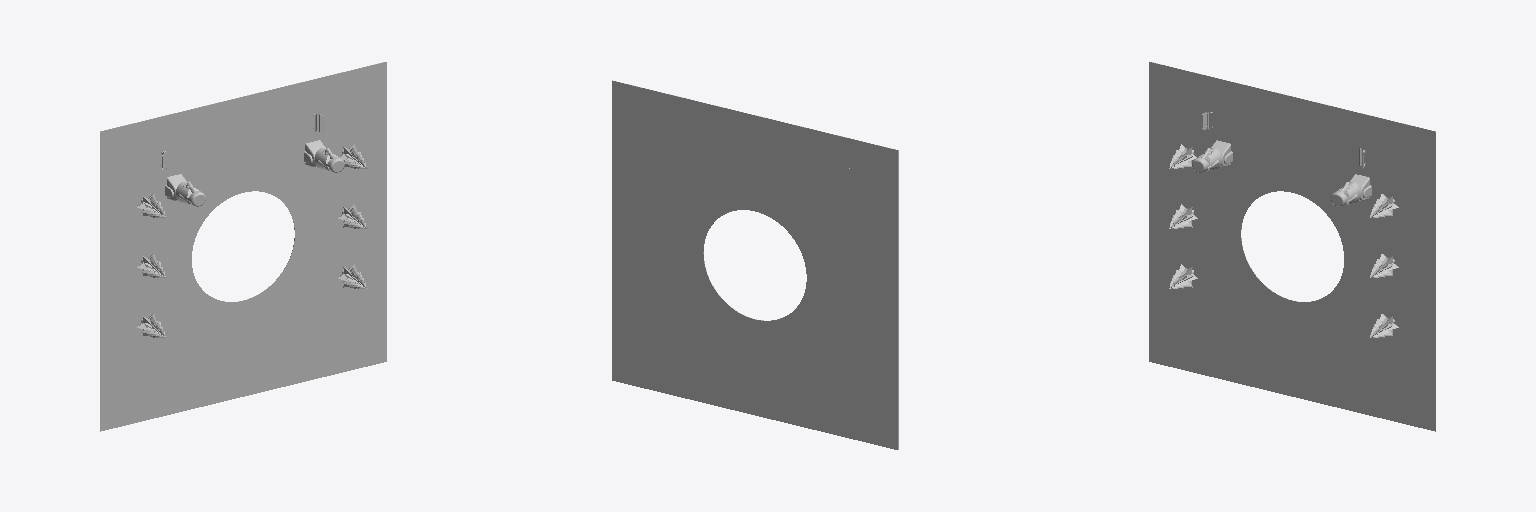
Rendered from explanada.obj.
The picture shows the model from 3 angles: view 1: azimuth 30°, elevation 25°; view 2: azimuth 150°, elevation 25°; view 3: azimuth 330°, elevation 25°; orthographic projection.
Visible parts, largest first — view 1: obj_0; view 2: obj_0; view 3: obj_0.
Boxes of the visible parts, x1=… form: obj_0: x1=100, y1=62, x2=386, y2=431; obj_0: x1=612, y1=80, x2=898, y2=449; obj_0: x1=1149, y1=62, x2=1435, y2=431.
Size of the model in its own units: 500 by 500 by 78.18.